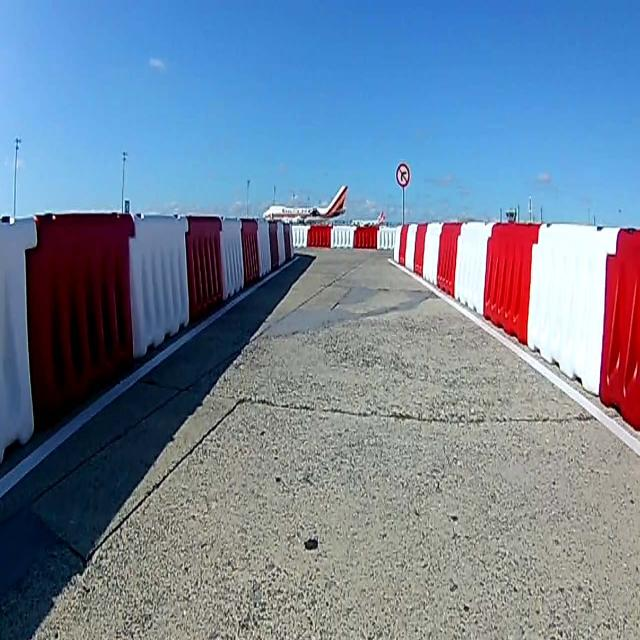sagadonulmez: (395, 162, 410, 188)
